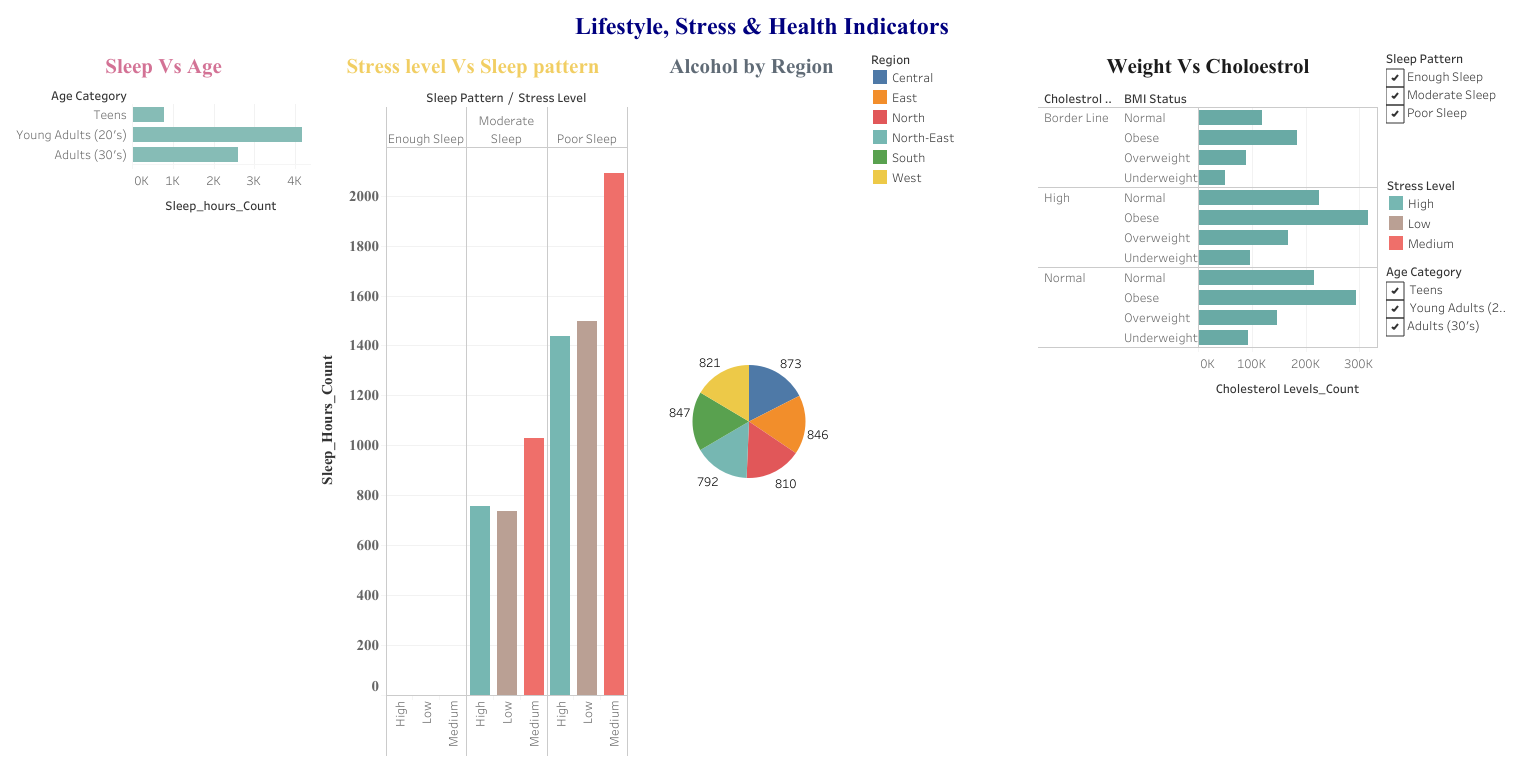

This screenshot's page, from the dashboard's own definition file:
{"tool":"tableau","page":{"name":"Dashboard 3","canvas":[1524,768],"ordinal":2},"visuals":[{"type":"title","box":[8,8,1508,35]},{"type":"worksheet","title":"Sheet 7","mark":"Automatic","rows":["Age_Category"],"cols":["Sleep_Score"],"box":[8,43,423,717]},{"type":"worksheet","title":"Sheet 8","mark":"Automatic","rows":["Sleep_Score"],"cols":["Sleep_Pattern","Stress Level"],"box":[431,43,318,717]},{"type":"worksheet","title":"Sheet 6","mark":"Pie","box":[749,43,168,717]},{"type":"worksheet","title":"Sheet 9","mark":"Automatic","rows":["Cholestrol_Check","BMI_Status"],"cols":["Cholesterol Levels (mg/dL)"],"box":[917,43,465,717]},{"type":"filter","title":"Sheet 7","param":"[federated.0xmsiim08rcw0m1774rh319un32k].[none:Sleep_Pattern:nk]","box":[1382,43,134,126]},{"type":"legend","title":"Sheet 8","param":"[federated.0xmsiim08rcw0m1774rh319un32k].[none:Stress Level:nk]","box":[1382,169,134,86]},{"type":"filter","title":"Sheet 6","param":"[federated.0xmsiim08rcw0m1774rh319un32k].[none:Age_Category:nk]","box":[1382,255,134,108]},{"type":"legend","title":"Sheet 6","param":"[federated.0xmsiim08rcw0m1774rh319un32k].[none:Region:nk]","box":[1382,363,134,146]},{"type":"legend","title":"Sheet 6","param":"[federated.0xmsiim08rcw0m1774rh319un32k].[sum:Alcohol_Score:qk]","box":[1382,509,134,46]}]}

Visuals, with their boxes in screenshot pixels (x1, y1, x2, y2), scaled from the page's 1524x768 canvas onto the 1523x767 screenshot:
title: BBox(8, 8, 1515, 43)
"Sheet 7" worksheet: BBox(8, 43, 431, 759)
"Sheet 8" worksheet: BBox(431, 43, 749, 759)
"Sheet 6" worksheet (Pie marks): BBox(749, 43, 916, 759)
"Sheet 9" worksheet: BBox(916, 43, 1381, 759)
"Sheet 7" filter: BBox(1381, 43, 1515, 169)
"Sheet 8" legend: BBox(1381, 169, 1515, 255)
"Sheet 6" filter: BBox(1381, 255, 1515, 363)
"Sheet 6" legend: BBox(1381, 363, 1515, 508)
"Sheet 6" legend: BBox(1381, 508, 1515, 554)
